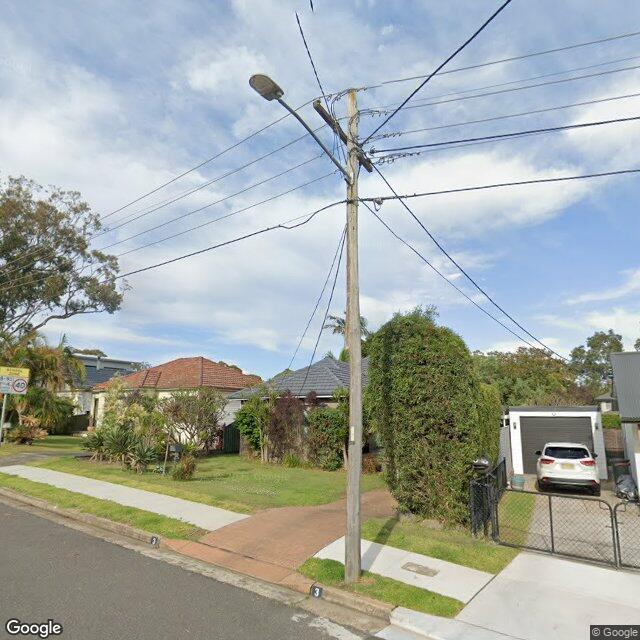crossarm: (312, 100, 375, 174)
streetlight: (249, 74, 355, 182)
timber-pole: (344, 140, 362, 582)
